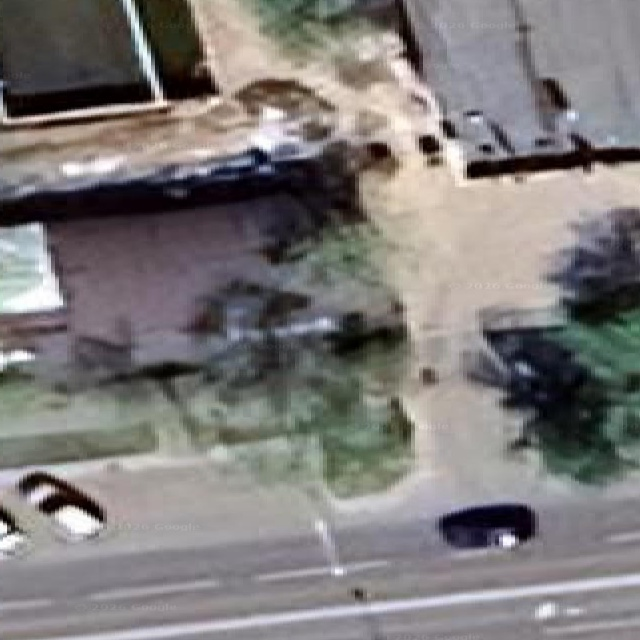car: (16, 472, 104, 539), (437, 504, 535, 547), (0, 506, 26, 557)
